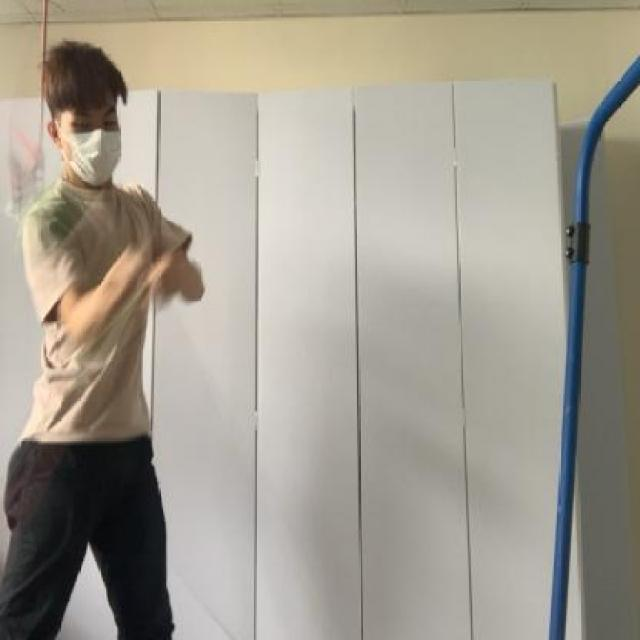baseball: (23, 174, 105, 260)
